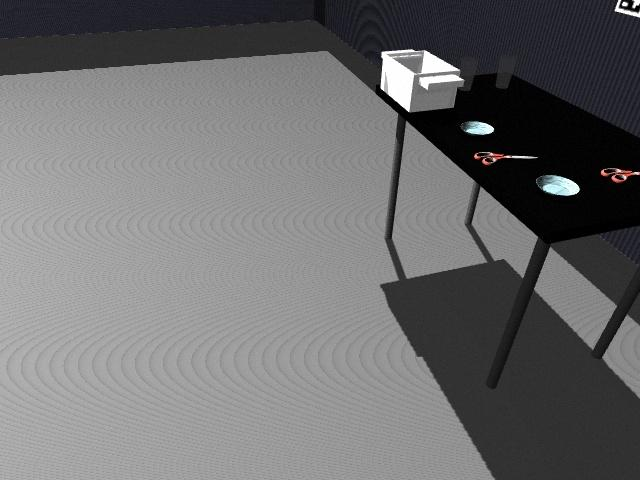cup: (456, 54, 479, 91), (496, 53, 518, 90)
plate: (535, 173, 583, 197), (458, 120, 495, 135)
scissors: (473, 151, 538, 166), (599, 167, 640, 183)
